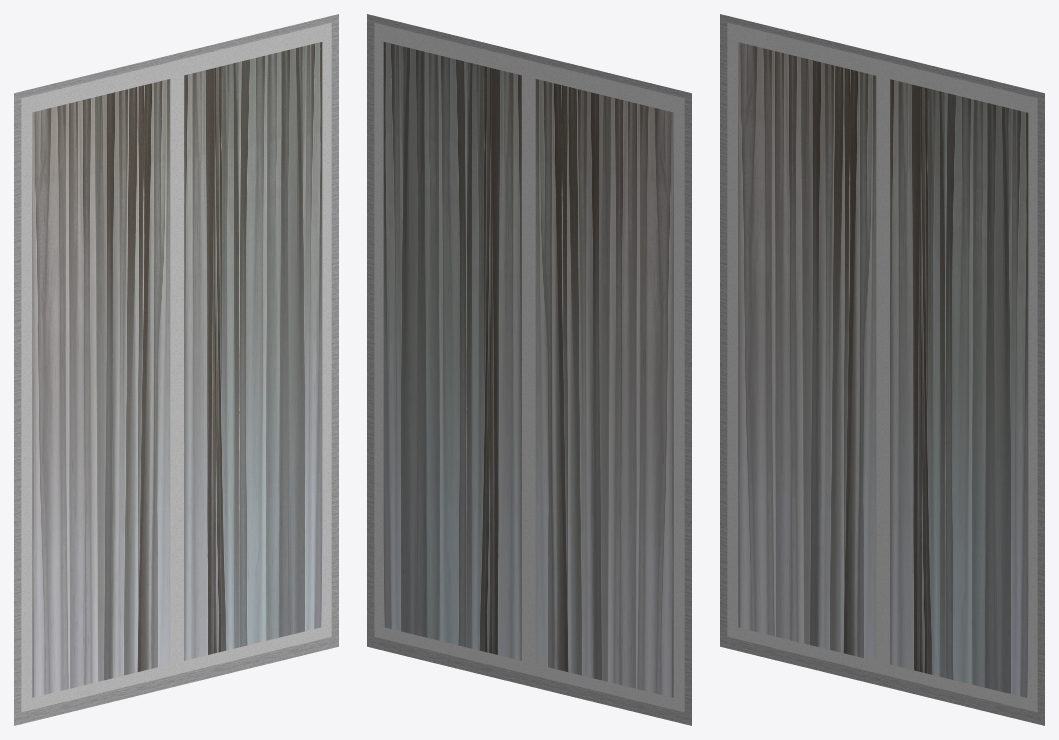
Rendered from 2FensterBDoor.LOD.glb.
3 renders of one model, left to right at view 1: azimuth 30°, elevation 25°; view 2: azimuth 150°, elevation 25°; view 3: azimuth 330°, elevation 25°, orthographic.
Visible parts, largest first — view 1: Cube.005; view 2: Cube.005; view 3: Cube.005.
Part boxes in pixels (bbox=[...]): Cube.005: bbox=[14, 14, 338, 725]; Cube.005: bbox=[367, 14, 691, 725]; Cube.005: bbox=[720, 14, 1044, 725].
Bounding box in the file's own units: 3.44 × 6.39 × 0.
Materials: 3 (3 with a texture image).
